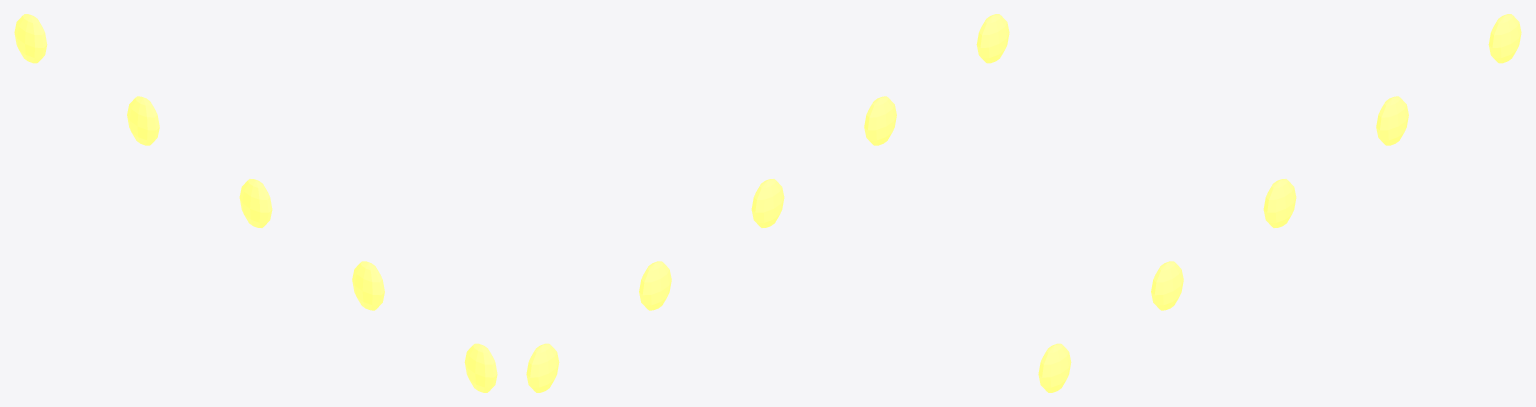
File: SM_DK_14_Timing_gantry_signs_and_pit_furniture_amber.fbx
3 views of the same model, side by side, from view 1: azimuth 30°, elevation 25°; view 2: azimuth 150°, elevation 25°; view 3: azimuth 330°, elevation 25° (orthographic).
Parts seen in each view (by area): view 1: 14 Timing gantry signs and pit furniture | amber; view 2: 14 Timing gantry signs and pit furniture | amber; view 3: 14 Timing gantry signs and pit furniture | amber.
Boxes of the visible parts, x1,y1,x2,y2 form: 14 Timing gantry signs and pit furniture | amber: (14, 14, 497, 392); 14 Timing gantry signs and pit furniture | amber: (526, 14, 1009, 392); 14 Timing gantry signs and pit furniture | amber: (1038, 14, 1521, 392).
Bounding box in the file's own units: 15.22 × 634 × 34.
